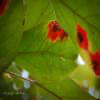Apple rust leaf: (16, 20, 82, 85)
